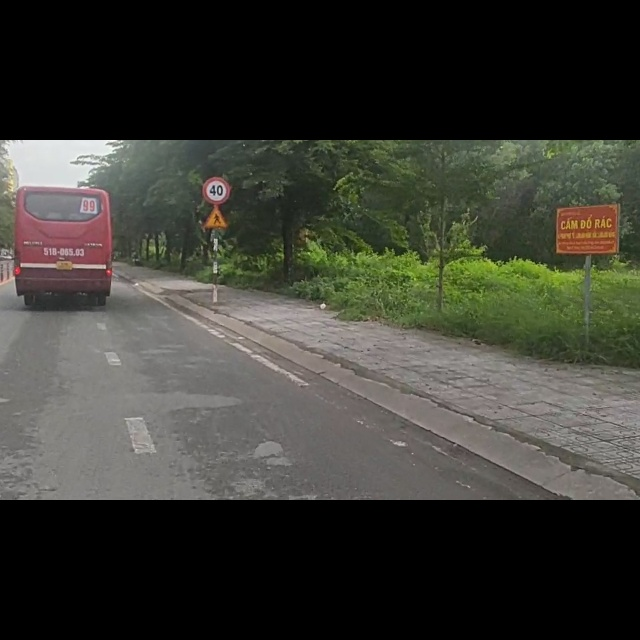bien_nguy_hiem: (202, 64, 233, 116), (203, 117, 229, 160)
